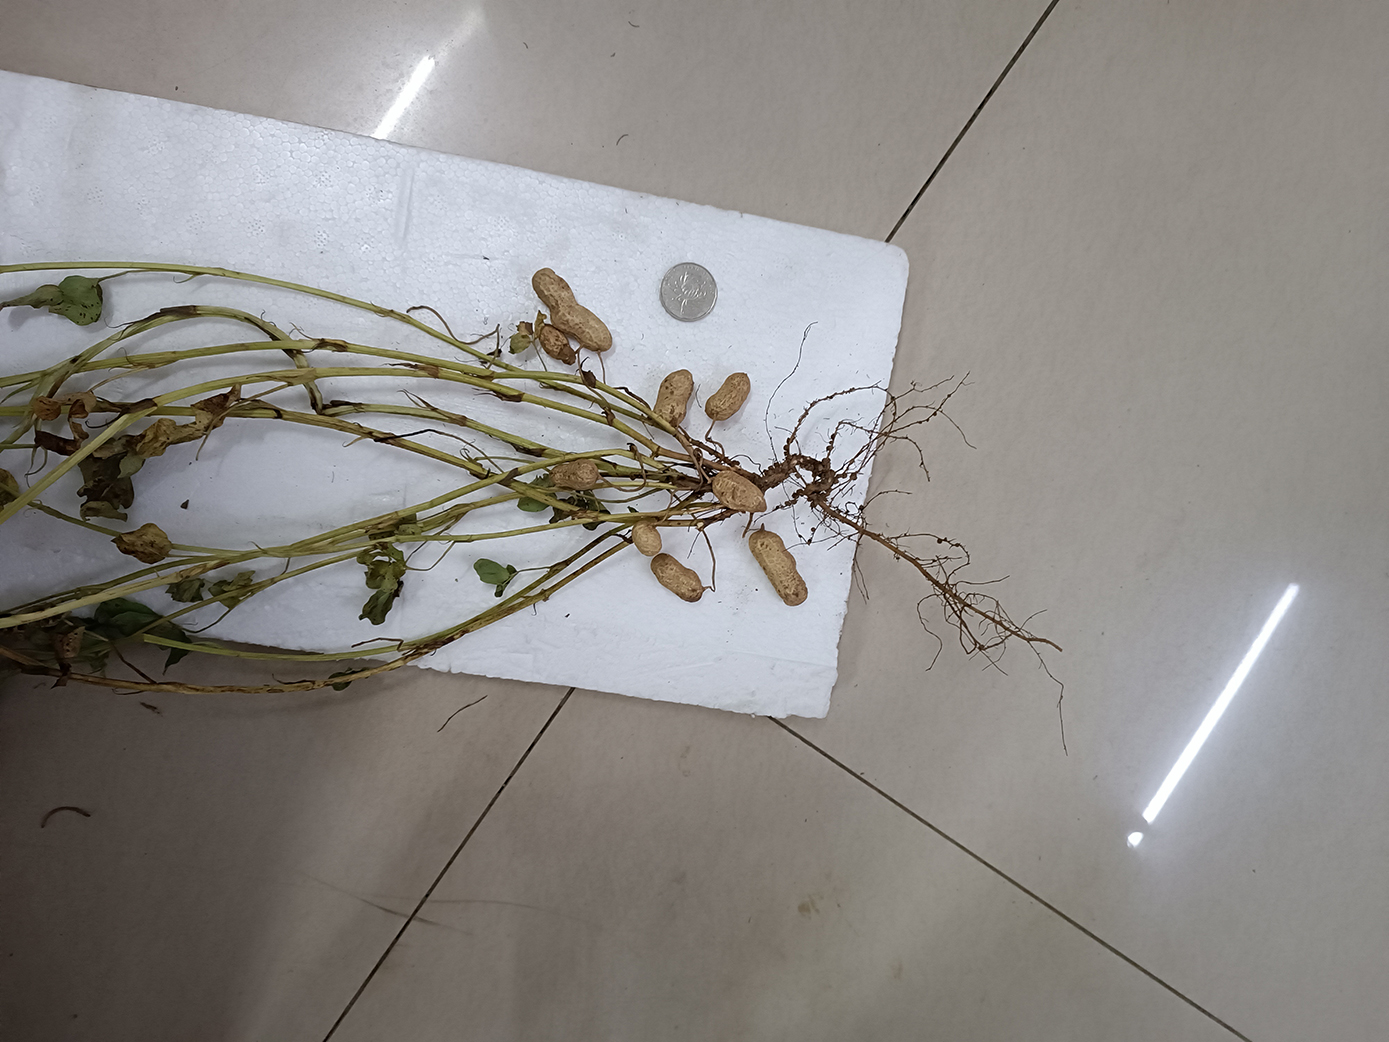h: (531, 269, 612, 351), (748, 530, 808, 607), (650, 554, 704, 600), (711, 472, 768, 514), (703, 372, 751, 421), (653, 369, 694, 422), (552, 458, 598, 490), (630, 521, 662, 554)
l: (536, 321, 577, 364)
